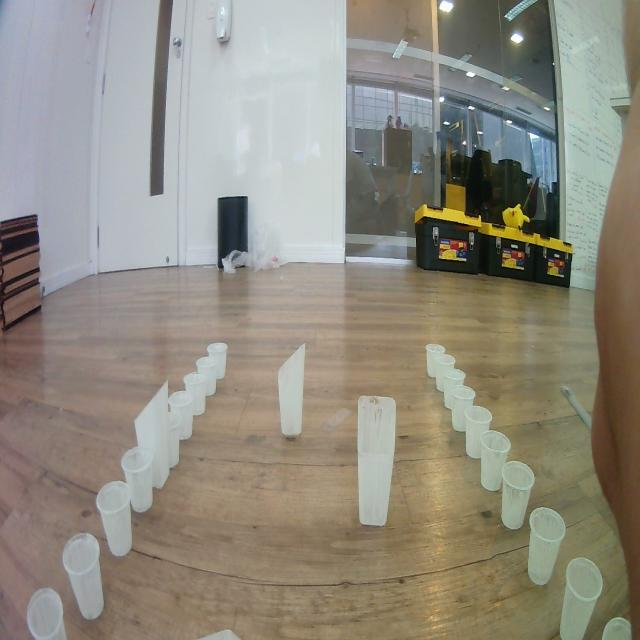erva_daninha: (356, 395, 396, 527), (134, 380, 170, 490), (278, 342, 306, 437)
planta: (62, 532, 105, 622), (560, 556, 604, 640), (526, 506, 566, 586), (96, 480, 133, 558), (501, 460, 535, 530), (121, 446, 155, 513), (26, 586, 68, 640), (480, 429, 511, 492), (464, 406, 492, 460), (168, 390, 194, 441), (451, 385, 476, 433), (443, 368, 467, 409), (184, 372, 206, 416), (195, 356, 218, 397), (166, 412, 181, 468), (436, 354, 456, 393), (207, 342, 228, 379), (425, 342, 446, 378), (602, 617, 633, 640)
